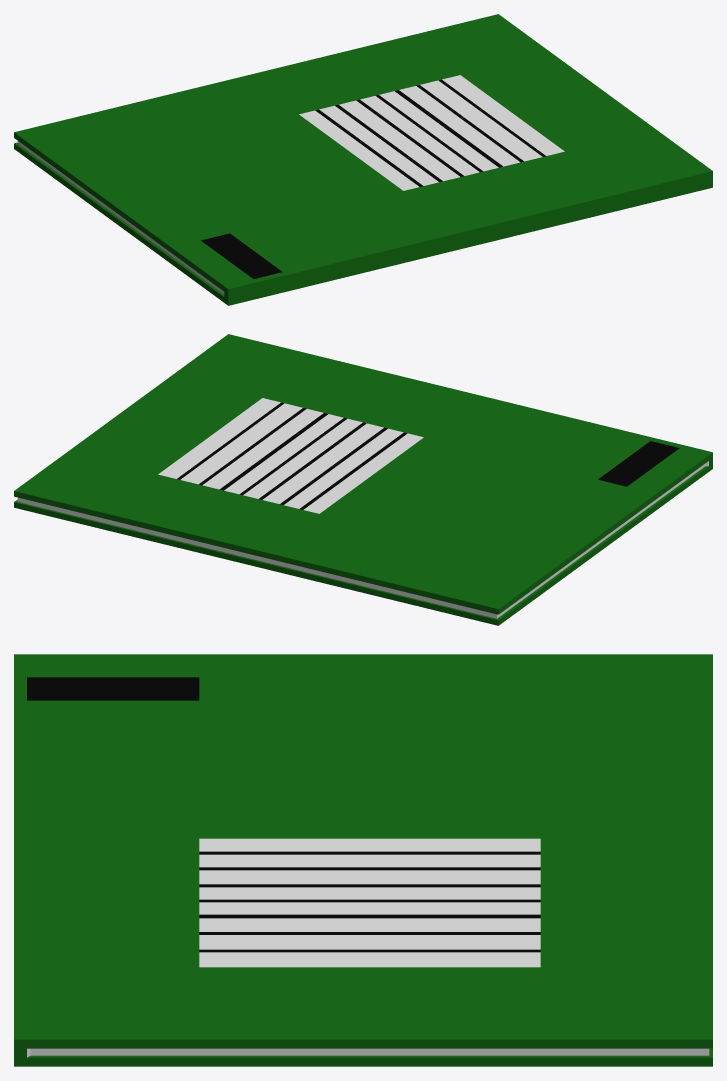
Rendered from book1.fbx.
3 views of the same model, one above another, from view 1: azimuth 30°, elevation 25°; view 2: azimuth 150°, elevation 25°; view 3: azimuth 270°, elevation 25° (orthographic). The views are drawn at different scales.
Visible parts, largest first — view 1: Куб; view 2: Куб; view 3: Куб.
Boxes of the visible parts, <box> form: Куб: <box>14,14,712,305</box>; Куб: <box>14,334,712,625</box>; Куб: <box>14,654,712,1066</box>.
Bounding box in the file's own units: 85.26 × 2.8 × 65.36.
